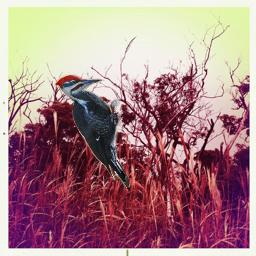Woodpecker: (54, 74, 130, 191)
